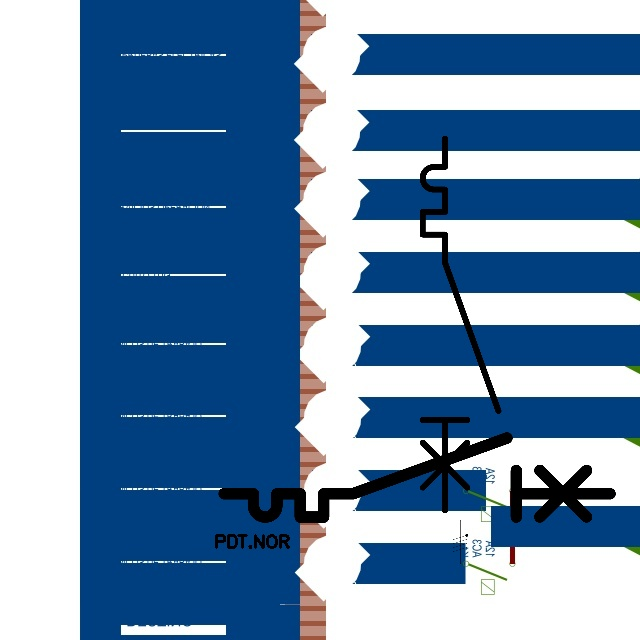interruptor_termomagnetico: (214, 428, 620, 527), (413, 129, 508, 519)
